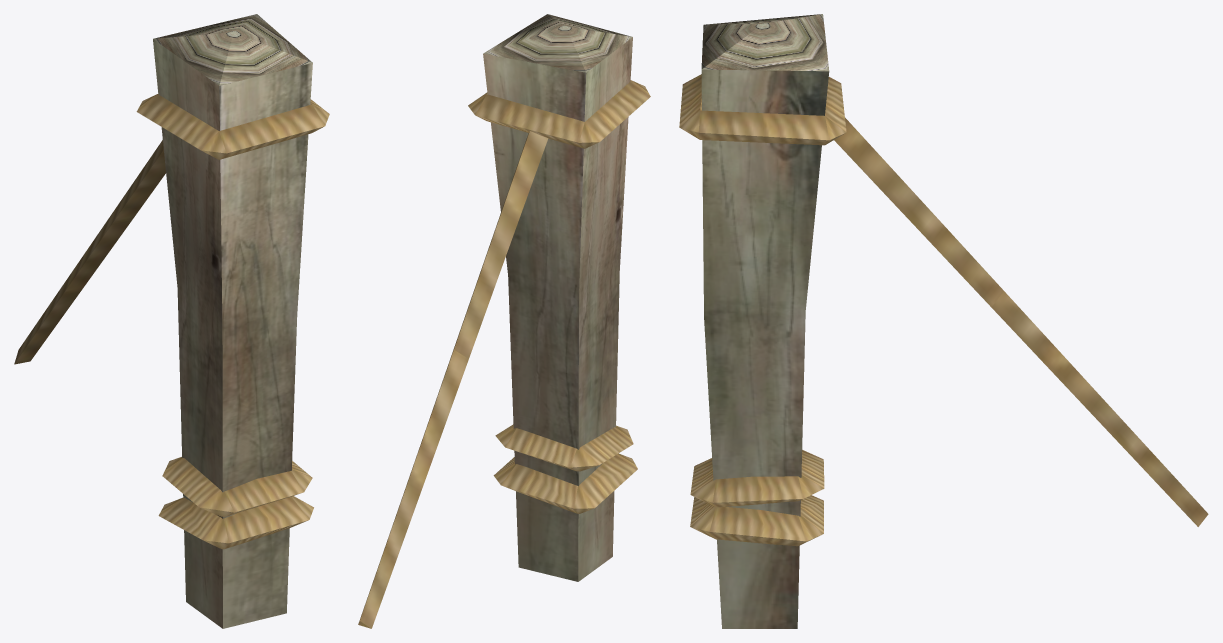
File: shanty_rope_bridge_post.fbx
3 renders of one model, left to right at view 1: azimuth 30°, elevation 25°; view 2: azimuth 150°, elevation 25°; view 3: azimuth 270°, elevation 25°, orthographic. The views are drawn at different scales.
Visible parts, largest first — view 1: post_support, rope_tie1, rope_support1, rope_tie3, rope_tie2; view 2: post_support, rope_support1, rope_tie1, rope_tie3, rope_tie2; view 3: post_support, rope_support1, rope_tie1, rope_tie3, rope_tie2.
Part boxes in pixels (box(x1,y1,x2,y2)): post_support: box(153, 14, 312, 628); rope_tie1: box(136, 94, 329, 159); rope_support1: box(14, 140, 165, 364); rope_tie3: box(158, 496, 313, 549); rope_tie2: box(162, 457, 312, 516); post_support: box(483, 14, 632, 581); rope_support1: box(358, 131, 548, 628); rope_tie1: box(468, 80, 650, 148); rope_tie3: box(493, 453, 637, 513); rope_tie2: box(495, 424, 633, 471); post_support: box(701, 14, 829, 628); rope_support1: box(834, 117, 1208, 526); rope_tie1: box(679, 74, 846, 145); rope_tie3: box(690, 495, 823, 546); rope_tie2: box(690, 450, 824, 507).
Bounding box in the file's own units: 296 × 1168 × 953.
Materials: 2 (2 with a texture image).
